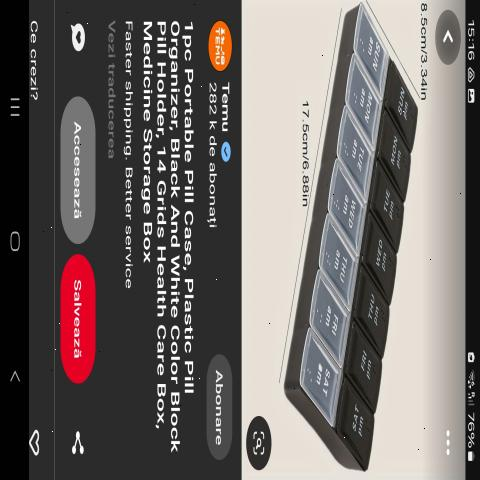PillBox: (280, 7, 426, 464)
